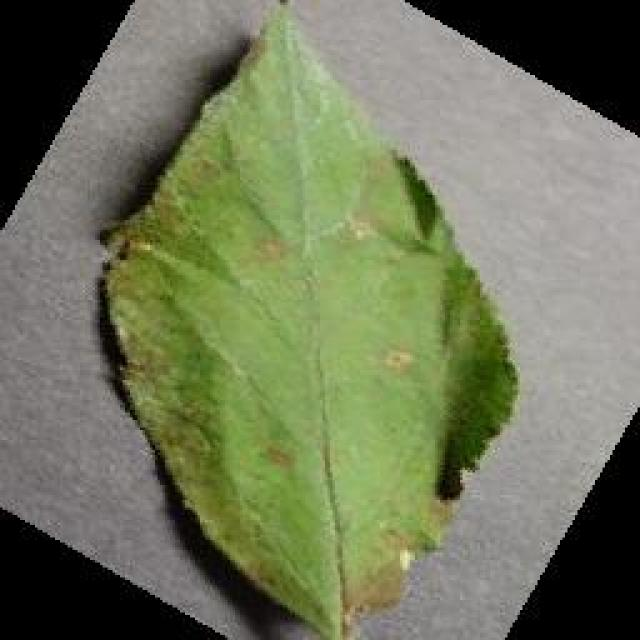apple rust disease: (92, 0, 520, 638)
